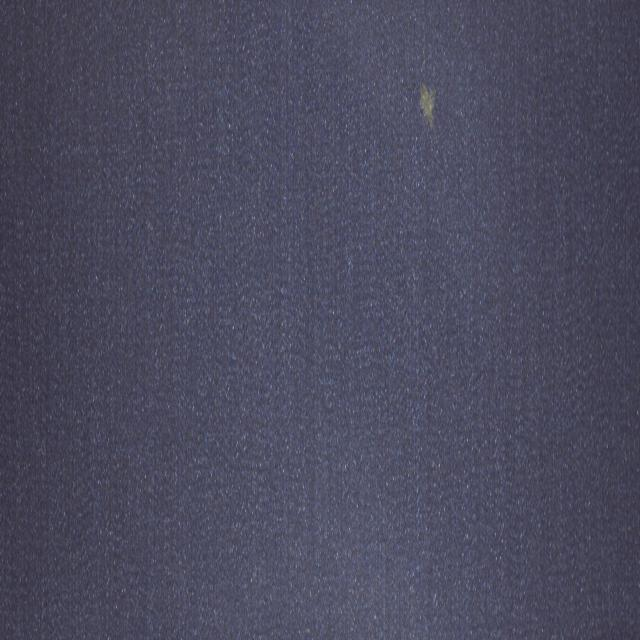Knot: (421, 83, 437, 126)
